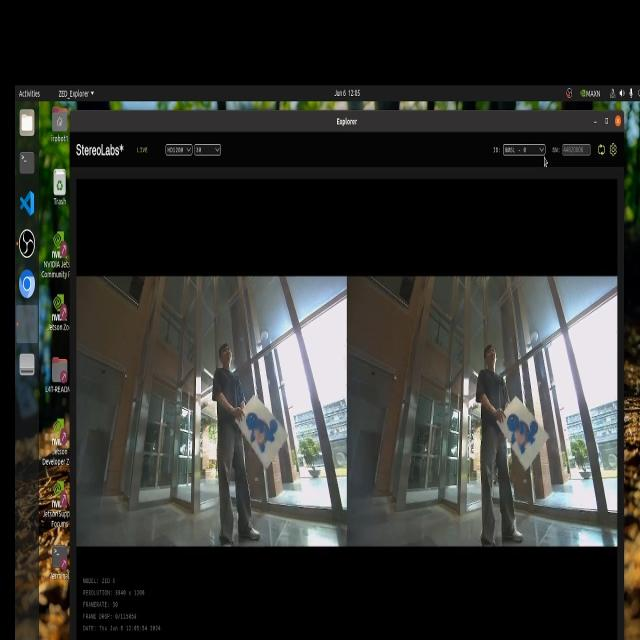blue: (244, 409, 284, 479), (505, 398, 546, 458)
